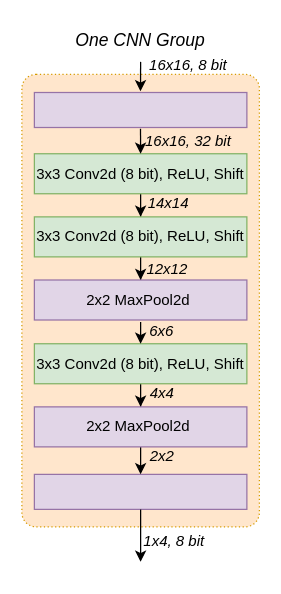
Some shapes in this 281 by 594 pixel diagram are drawn without their labels. The centre of each missing label's shape, as x and y in pixels:
8 bit -> 32 bit: (x=140, y=109)
ShiftNorm, 32 bit -> 8 bit: (x=140, y=491)
